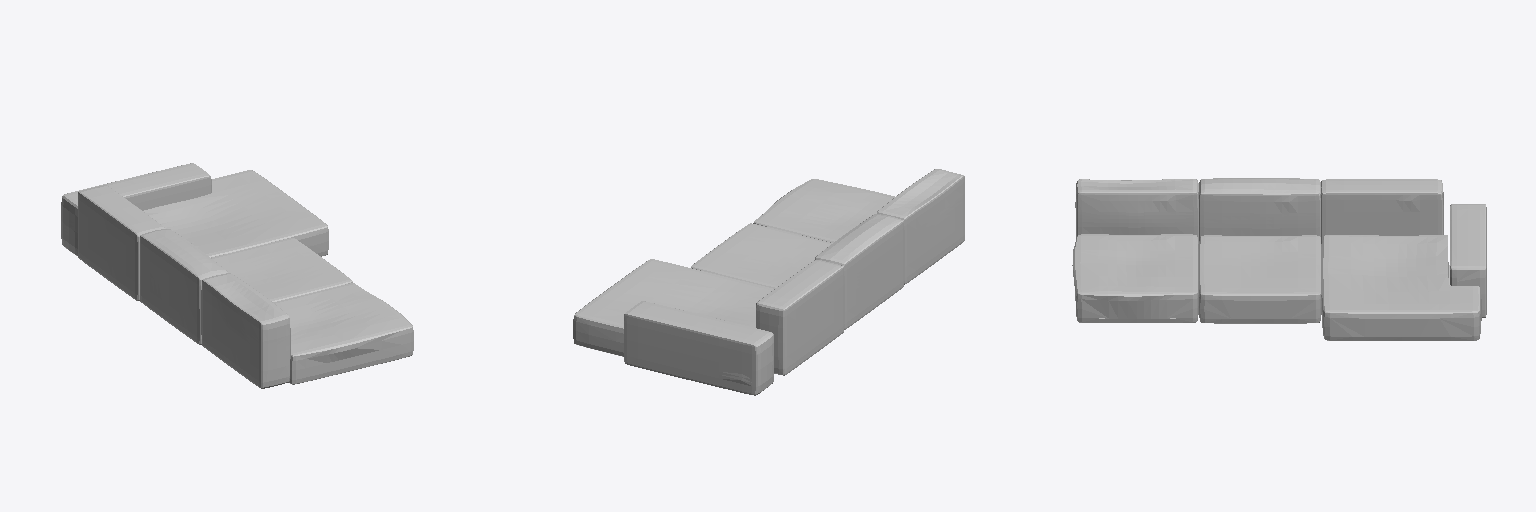
File: sofa.obj
3 renders of one model, left to right at view 1: azimuth 30°, elevation 25°; view 2: azimuth 150°, elevation 25°; view 3: azimuth 270°, elevation 25°, orthographic.
Visible parts, largest first — view 1: 立方体, 立方体.002, 立方体.005, 立方体.008, 立方体.007, 立方体.006, 立方体.003; view 2: 立方体.003, 立方体.002, 立方体.007, 立方体.008, 立方体.005, 立方体.006, 立方体; view 3: 立方体.002, 立方体, 立方体.006, 立方体.008, 立方体.007, 立方体.005, 立方体.003.
Part boxes in pixels (x1,y1,x2,y2): 立方体: (273, 283, 413, 384); 立方体.002: (143, 170, 328, 257); 立方体.005: (201, 273, 290, 388); 立方体.008: (140, 229, 227, 344); 立方体.007: (78, 185, 165, 300); 立方体.006: (212, 238, 352, 301); 立方体.003: (61, 163, 211, 255); 立方体.003: (624, 301, 773, 395); 立方体.002: (573, 259, 773, 356); 立方体.007: (756, 260, 844, 375); 立方体.008: (815, 214, 904, 329); 立方体.005: (877, 169, 964, 284); 立方体.006: (691, 223, 832, 288); 立方体: (753, 179, 894, 242); 立方体.002: (1321, 235, 1481, 340); 立方体: (1072, 234, 1198, 322); 立方体.006: (1199, 235, 1321, 323); 立方体.008: (1199, 178, 1321, 240); 立方体.007: (1321, 179, 1443, 243); 立方体.005: (1075, 179, 1198, 243); 立方体.003: (1450, 204, 1486, 317).
Size of the model in its own units: 1.4 by 0.5972 by 2.58.